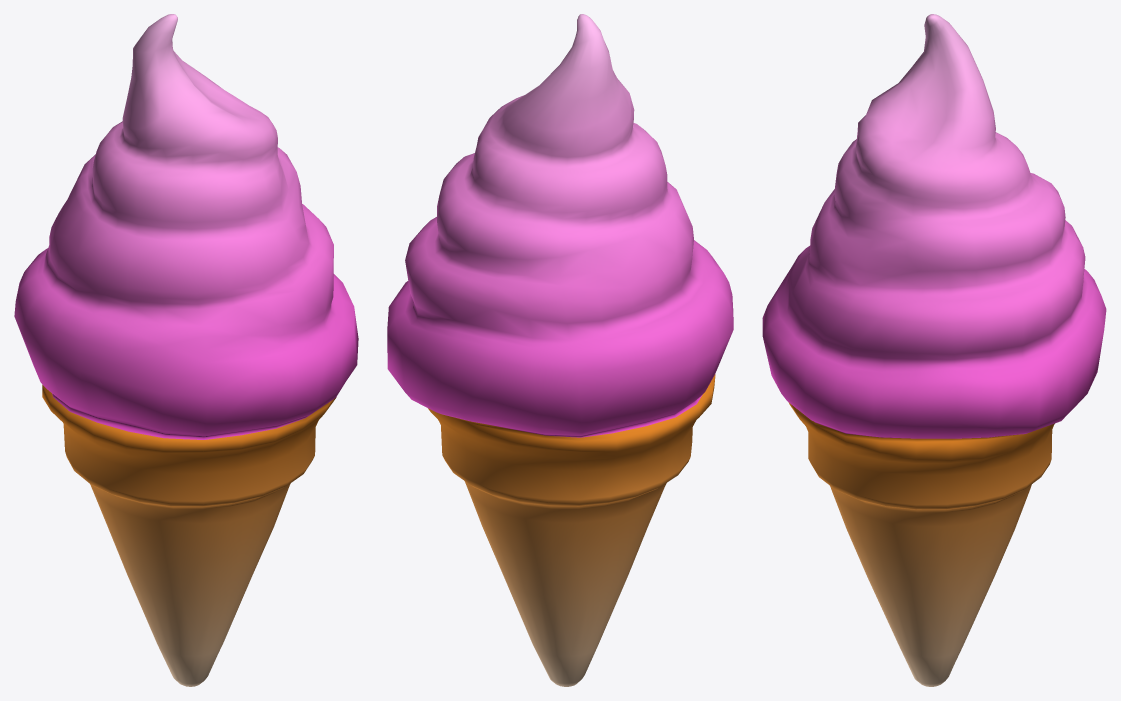
File: IceCream_0001_0001.fbx
The picture shows the model from 3 angles, left to right: view 1: azimuth 30°, elevation 25°; view 2: azimuth 150°, elevation 25°; view 3: azimuth 270°, elevation 25°; orthographic projection. The views are drawn at different scales.
Visible parts, largest first — view 1: Ice_0001_0001; view 2: Ice_0001_0001; view 3: Ice_0001_0001.
Part boxes in pixels (box(x1,y1,x2,y2)): Ice_0001_0001: box(14, 14, 358, 686); Ice_0001_0001: box(387, 14, 733, 686); Ice_0001_0001: box(762, 14, 1106, 686).
Bounding box in the file's own units: 0.0883 × 0.1907 × 0.0899.
1 material, 1 textured.
